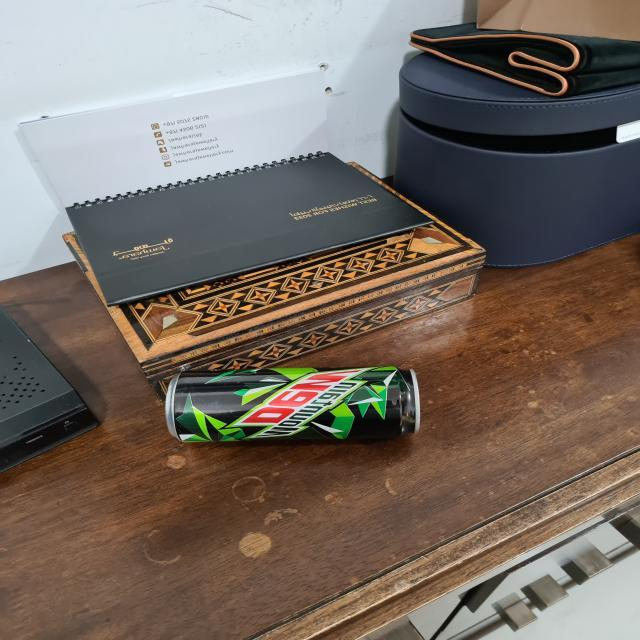can: (144, 364, 428, 445)
